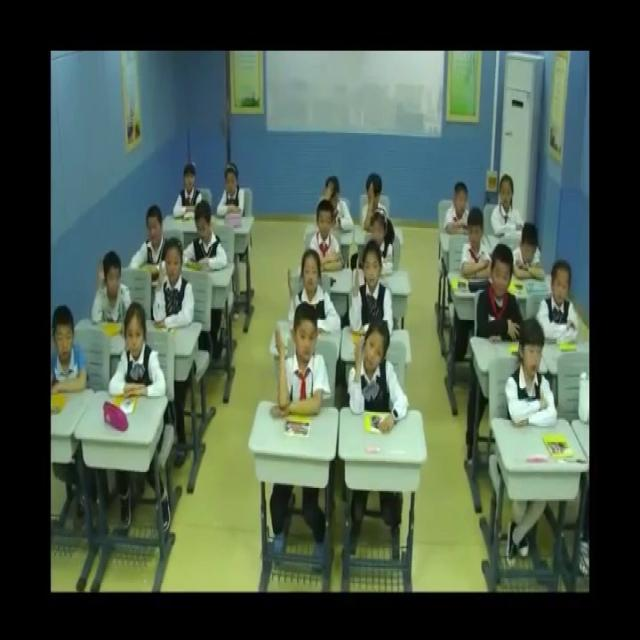focused: (506, 314, 560, 434), (110, 298, 166, 407), (479, 240, 522, 346), (180, 198, 229, 280), (538, 257, 580, 349), (51, 304, 91, 400), (460, 203, 496, 286), (134, 205, 173, 277), (310, 197, 346, 275), (361, 205, 397, 280), (490, 174, 530, 240), (321, 172, 358, 237), (215, 160, 251, 224), (361, 171, 396, 235), (172, 160, 206, 224), (513, 220, 547, 283), (447, 182, 478, 236)
raising_hand: (350, 317, 409, 435), (274, 307, 330, 425), (286, 245, 342, 339), (348, 239, 396, 340), (151, 234, 198, 334), (92, 252, 138, 331)
